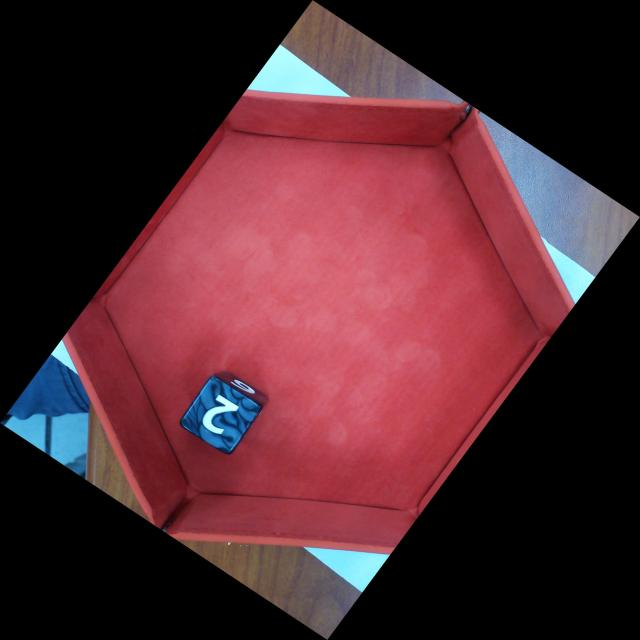dice: (178, 374, 264, 456)
